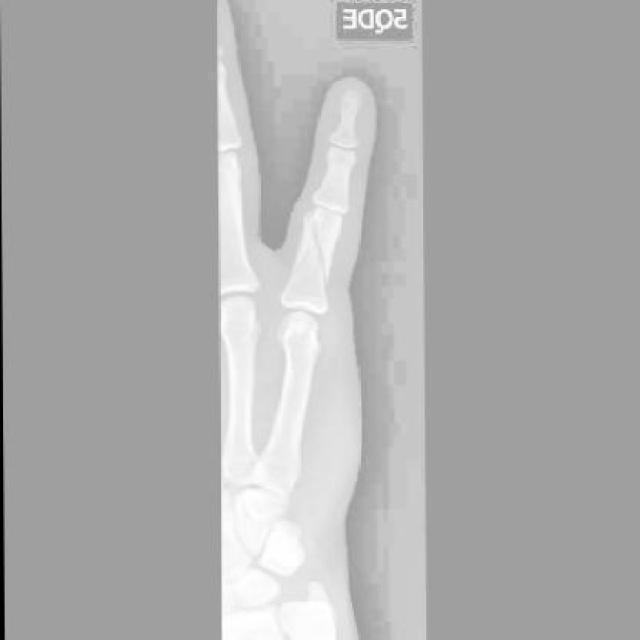Fracture: (288, 208, 333, 287)
